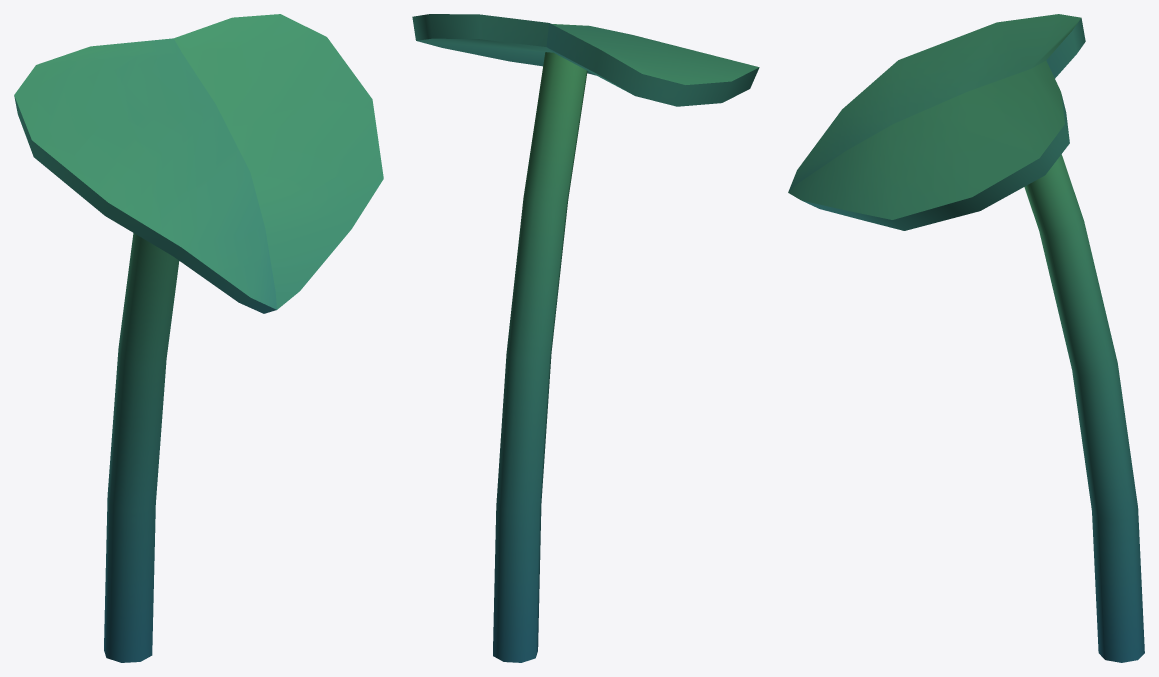
The model's file is Small Monstera Leaf.glb.
The picture shows the model from 3 angles, left to right: view 1: azimuth 30°, elevation 25°; view 2: azimuth 150°, elevation 25°; view 3: azimuth 270°, elevation 25°; orthographic projection. The views are drawn at different scales.
Parts seen in each view (by area): view 1: monstera_leaf_small_B; view 2: monstera_leaf_small_B; view 3: monstera_leaf_small_B.
Part boxes in pixels (box(x1,y1,x2,y2)): monstera_leaf_small_B: box(14, 14, 383, 662); monstera_leaf_small_B: box(412, 14, 759, 662); monstera_leaf_small_B: box(788, 14, 1144, 662).
Size of the model in its own units: 0.3774 by 0.7084 by 0.3851.
1 material, 1 textured.
